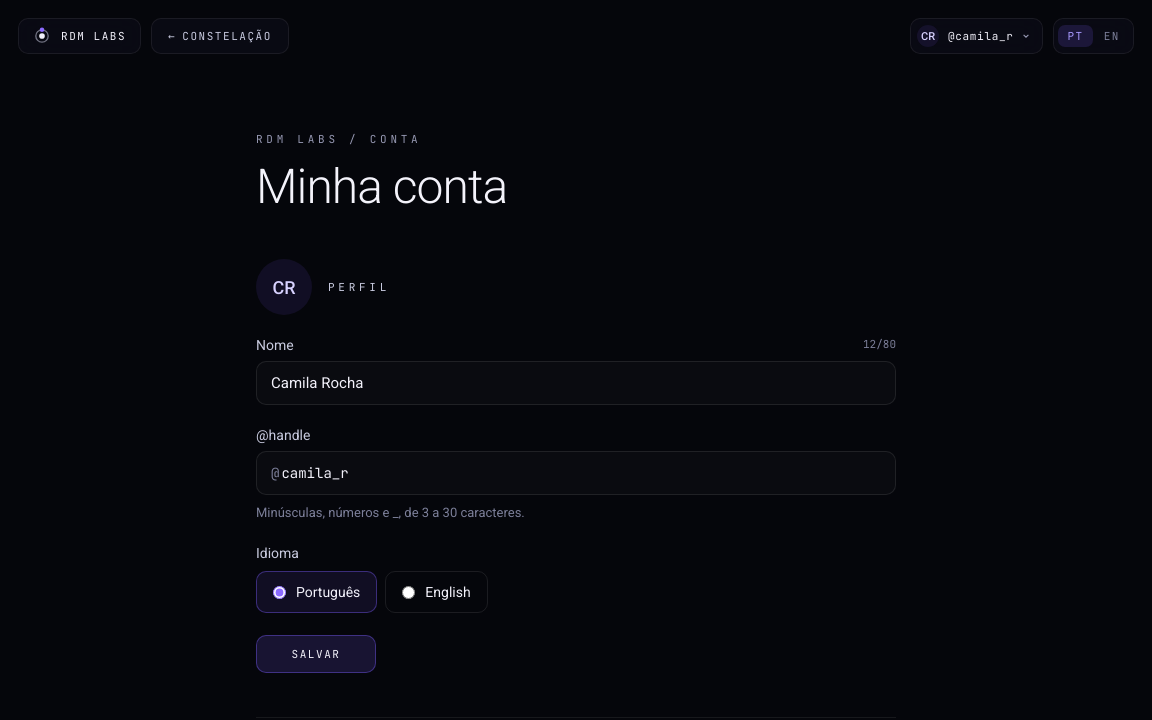
Minha conta › o @handle fora do formato não chega à API e o erro fica ligado ao campo
Replace the text in the field labelled "@handle" with "ab". click: (588, 473)
box: [281,452,895,494]
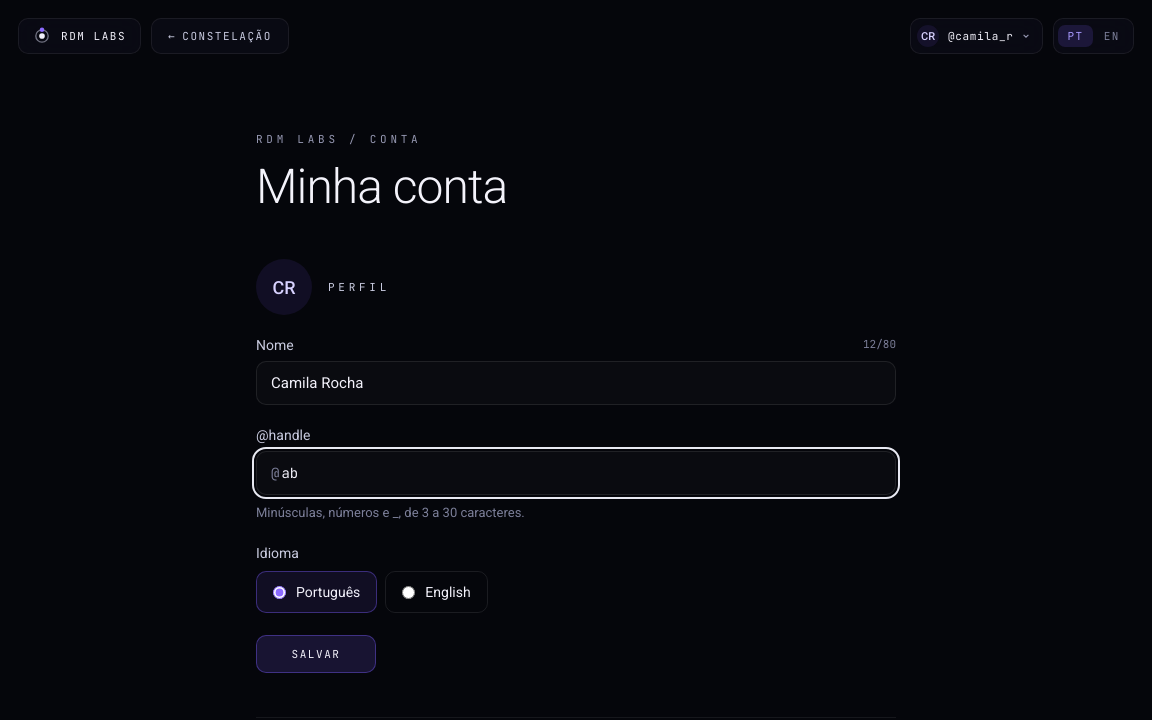
Click the button "SALVAR". click: (316, 654)
box: [256,635,376,673]
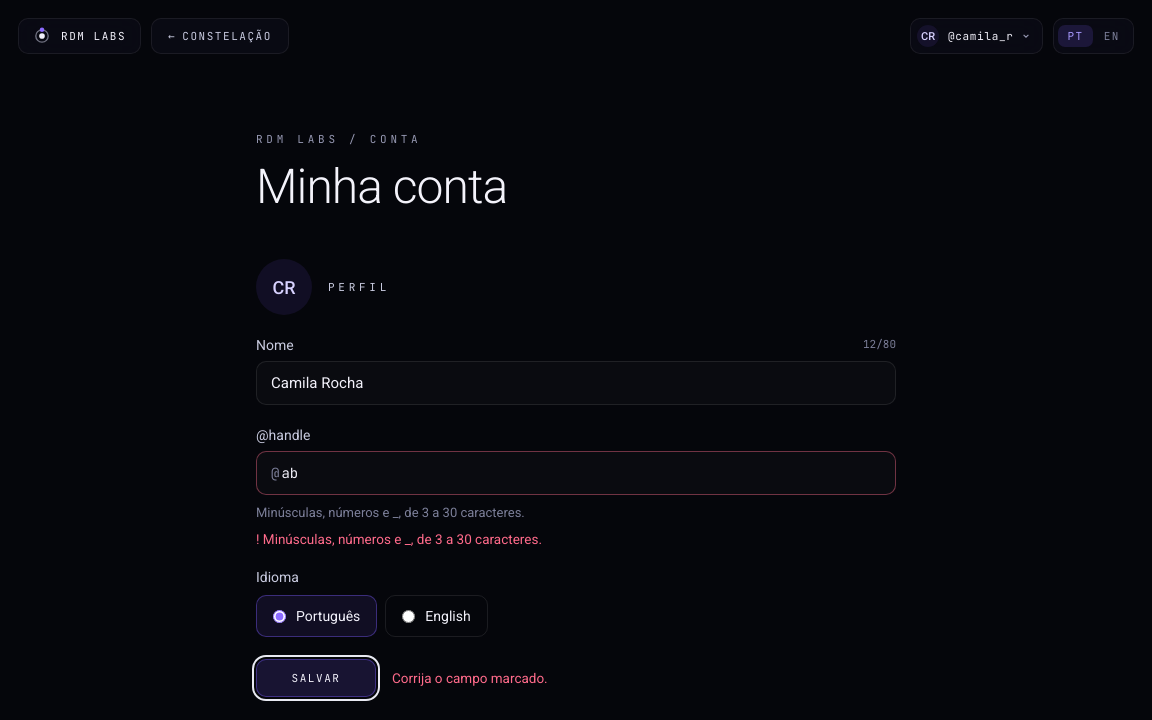
Check: the text "Corrija o campo marcado." is shown, box [392,670,548,686]
